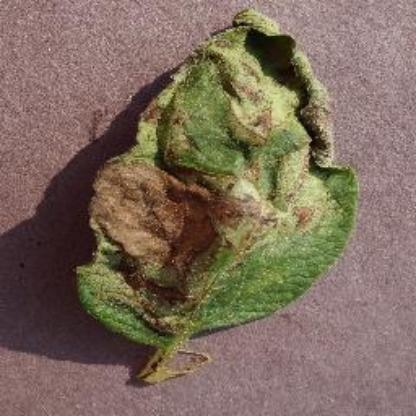Late-Blight: (38, 5, 369, 390)
